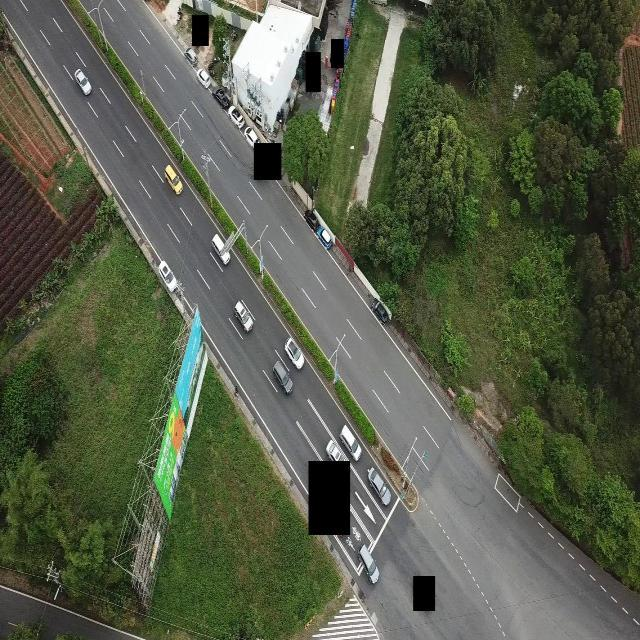car: (367, 466, 391, 506), (272, 355, 293, 397), (339, 423, 362, 461), (358, 544, 379, 584), (159, 258, 178, 293), (284, 337, 304, 369), (234, 299, 253, 332), (212, 232, 230, 264), (164, 163, 182, 194), (370, 298, 391, 324), (74, 69, 92, 96), (316, 224, 333, 249), (212, 87, 230, 109), (228, 104, 244, 128), (195, 67, 212, 89), (244, 126, 258, 145), (184, 46, 197, 65)
